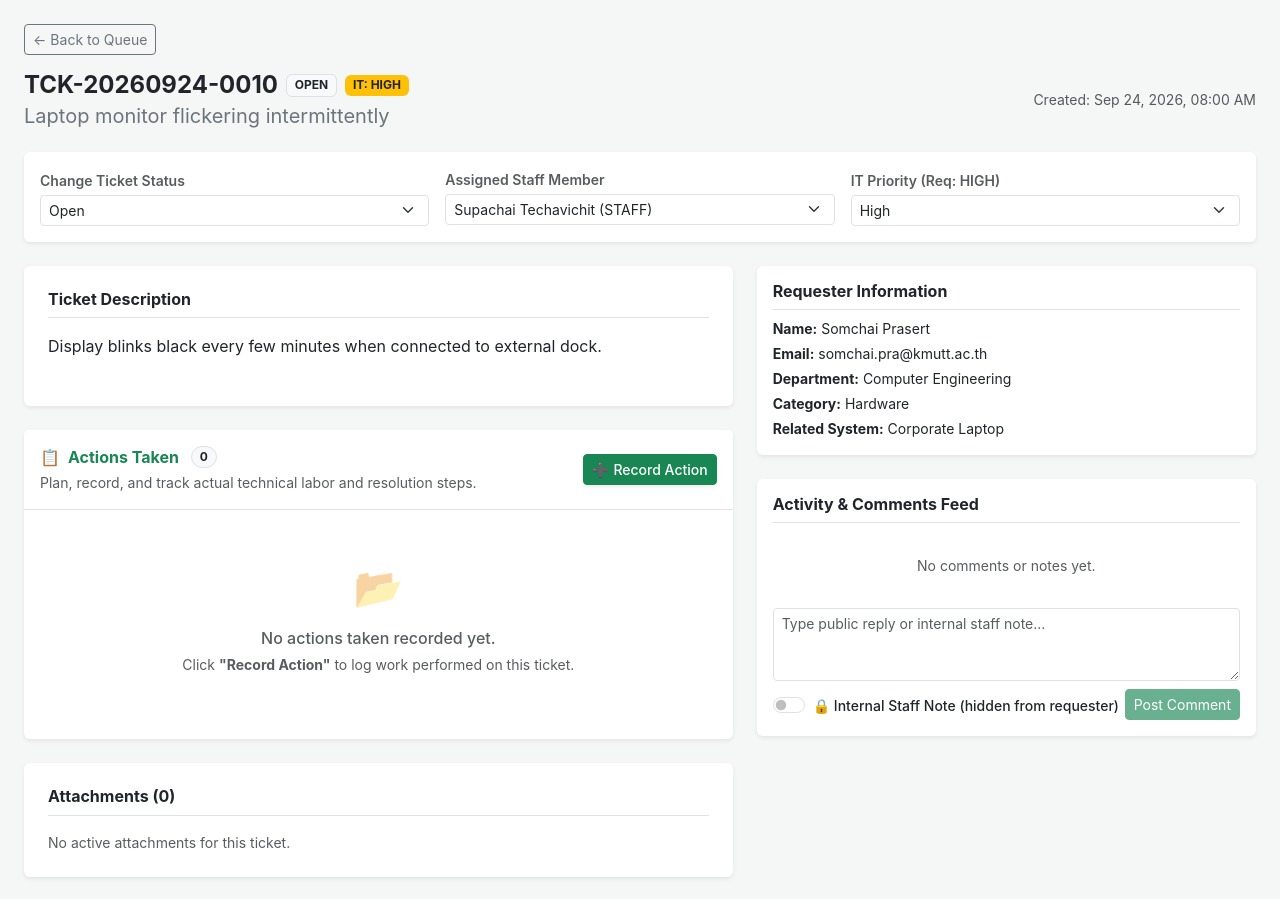
UI-05 to UI-07: Ticket Workflow & Resolution Gate Component Tests (Lab 4) › UI-07 (AC-10): Displays conflict alert banner if API returns 409 Conflict
# Trigger status transition to IN_PROGRESS
Select "In Progress" in the dropdown with test id "status-select" at (235, 210), box [40,195,429,226]
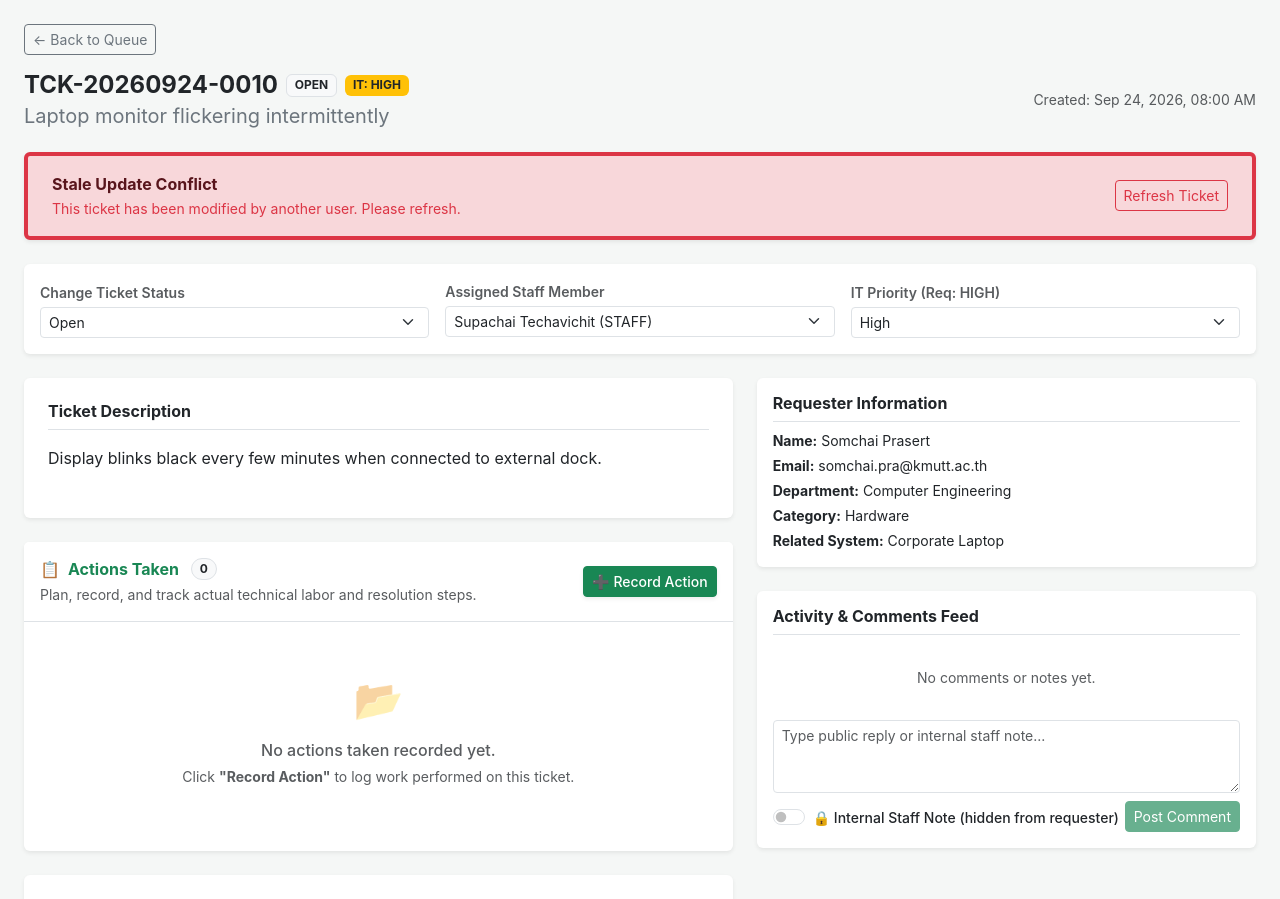
Expected: the message with test id "conflict-alert-banner" is shown, [24,152,1256,240]
Expected: the text "Stale Update Conflict" is shown, [52,174,218,194]
Expected: the text "This ticket has been modified by another user" is shown, [52,200,461,217]
# Clicking Refresh button should clear conflict banner and reload data
Click the button with test id "refresh-conflict-btn".
click(1171, 196)  # box [1114,180,1228,211]
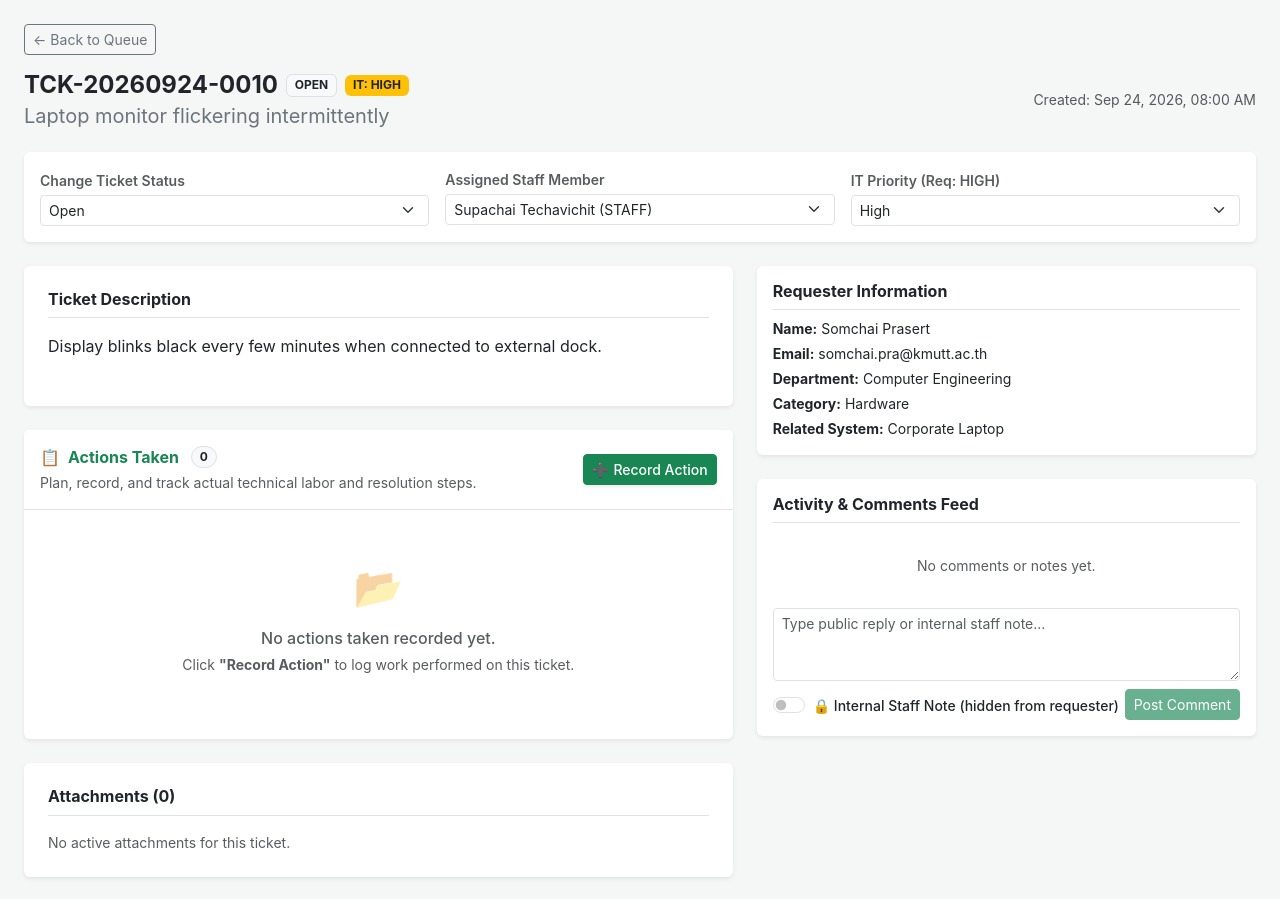
Expected: the message with test id "conflict-alert-banner" is gone
